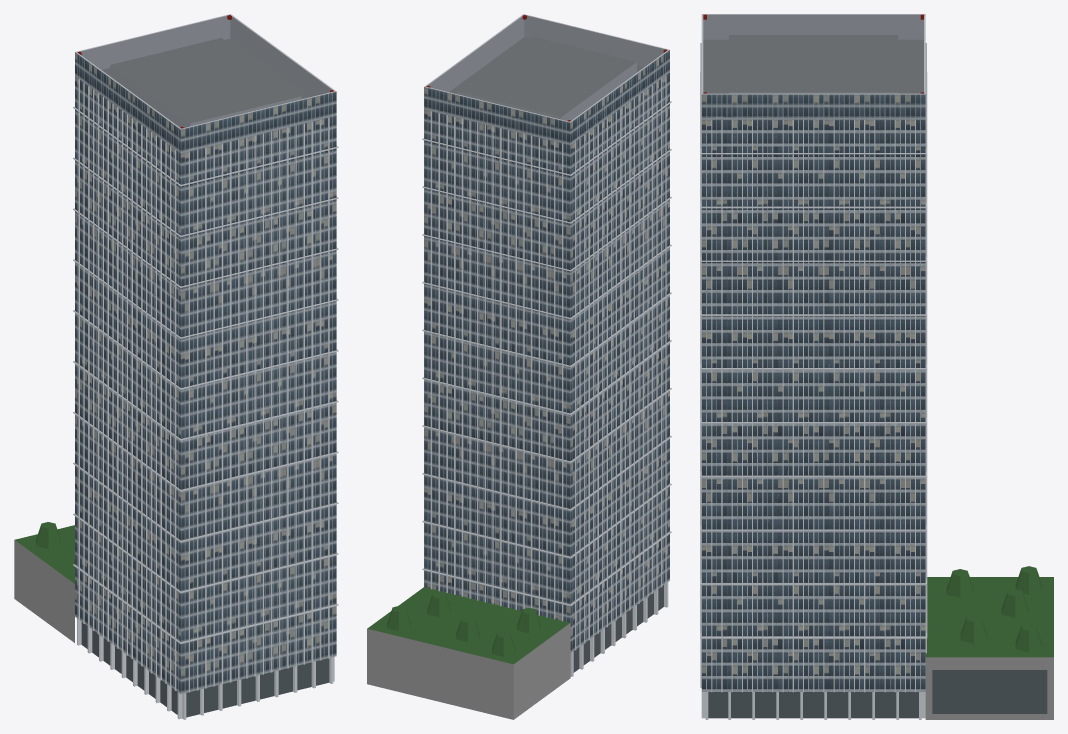
File: otemachi_tower.glb
3 views of the same model, side by side, from view 1: azimuth 30°, elevation 25°; view 2: azimuth 150°, elevation 25°; view 3: azimuth 270°, elevation 25° (orthographic). The views are drawn at different scales.
Visible parts, largest first — view 1: otemachi_tower; view 2: otemachi_tower; view 3: otemachi_tower.
Part boxes in pixels (x1,y1,x2,y2): otemachi_tower: [14, 14, 338, 719]; otemachi_tower: [367, 14, 671, 719]; otemachi_tower: [700, 14, 1053, 719].
Bounding box in the file's own units: 55.99 × 200 × 103.
Materials: 2 (2 with a texture image).
